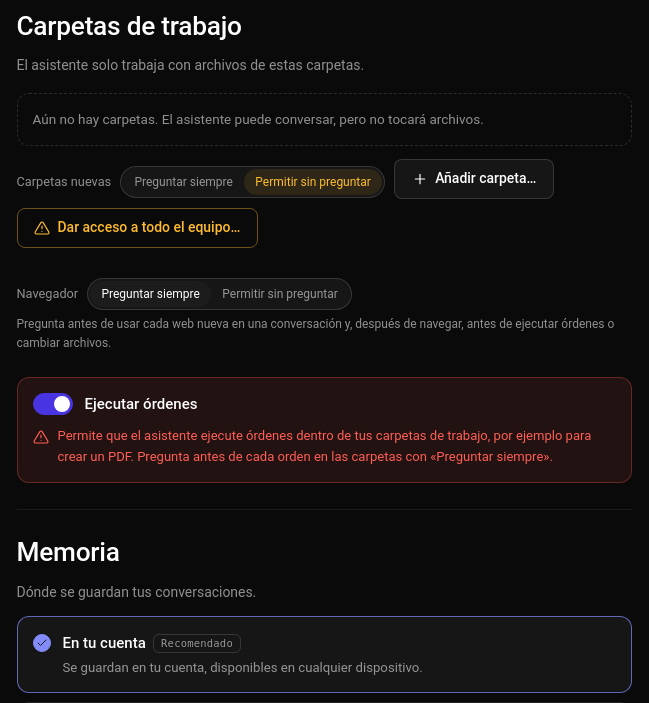
Test: browser permission mode setting › switches to allow through the core and shows the warn hint
(page scrolled)
Click the radio button labelled "Permitir sin preguntar" in the row of "Navegador" at (280, 294), box [211,281,349,307]
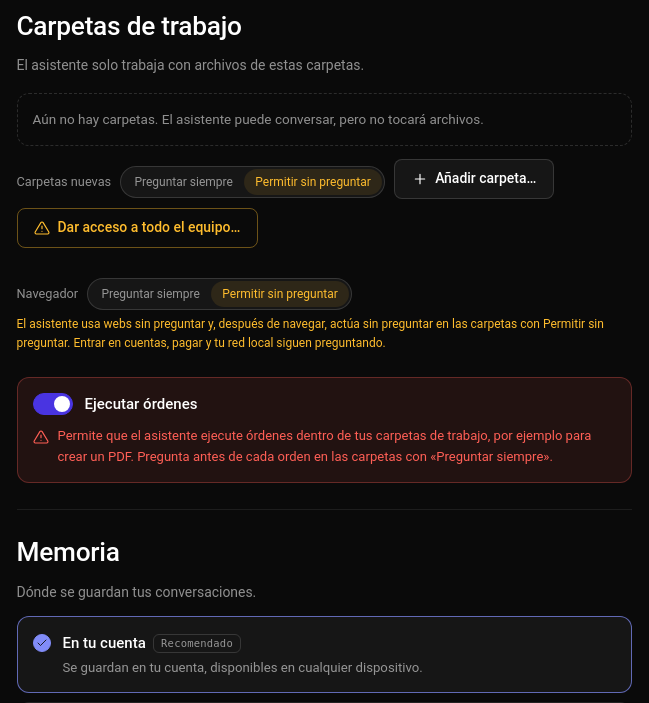
Expected: the text with class "browser-mode-hint" shows "Entrar en cuentas, pagar y tu red local siguen preguntando", [16,318,604,350]
